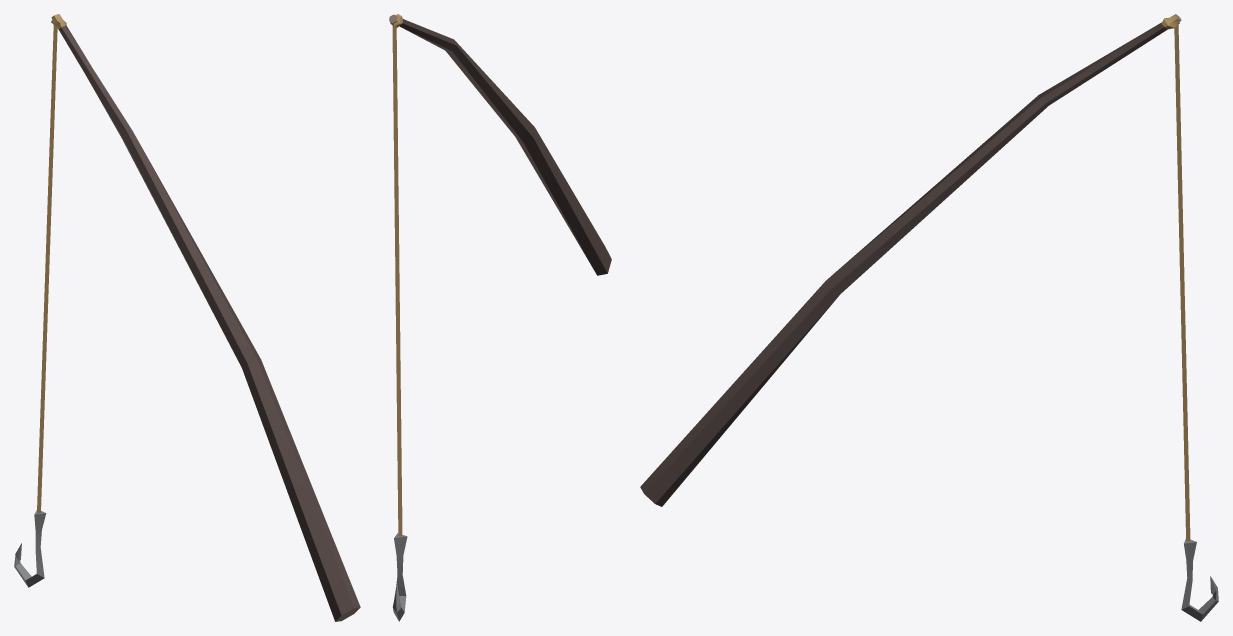
The model's file is fishing_rod.glb.
The picture shows the model from 3 angles, left to right: view 1: azimuth 30°, elevation 25°; view 2: azimuth 150°, elevation 25°; view 3: azimuth 270°, elevation 25°; orthographic projection. The views are drawn at different scales.
Visible parts, largest first — view 1: fishing_rod, fishing_rod_hook; view 2: fishing_rod, fishing_rod_hook; view 3: fishing_rod, fishing_rod_hook.
Part boxes in pixels (<box>): fishing_rod: <box>51,14,360,621</box>; fishing_rod_hook: <box>14,25,57,587</box>; fishing_rod: <box>389,14,611,275</box>; fishing_rod_hook: <box>392,25,407,621</box>; fishing_rod: <box>640,14,1181,506</box>; fishing_rod_hook: <box>1174,24,1218,621</box>.
Bounding box in the file's own units: 0.2738 × 1.93 × 1.64.
Materials: 1 (1 with a texture image).
